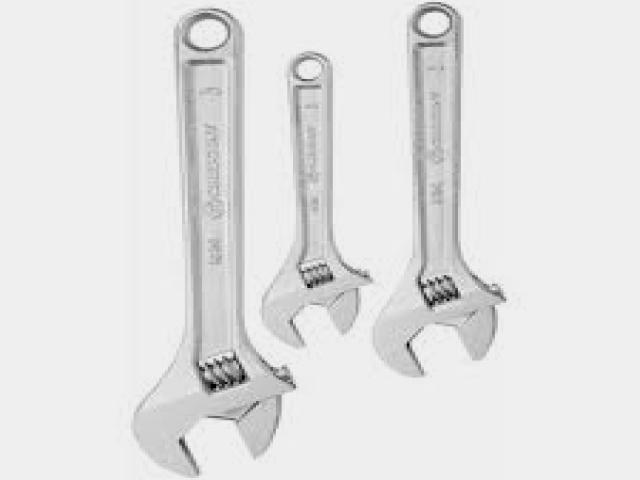Adjustable spanner: (132, 11, 294, 476), (374, 4, 505, 377), (261, 54, 371, 348)
